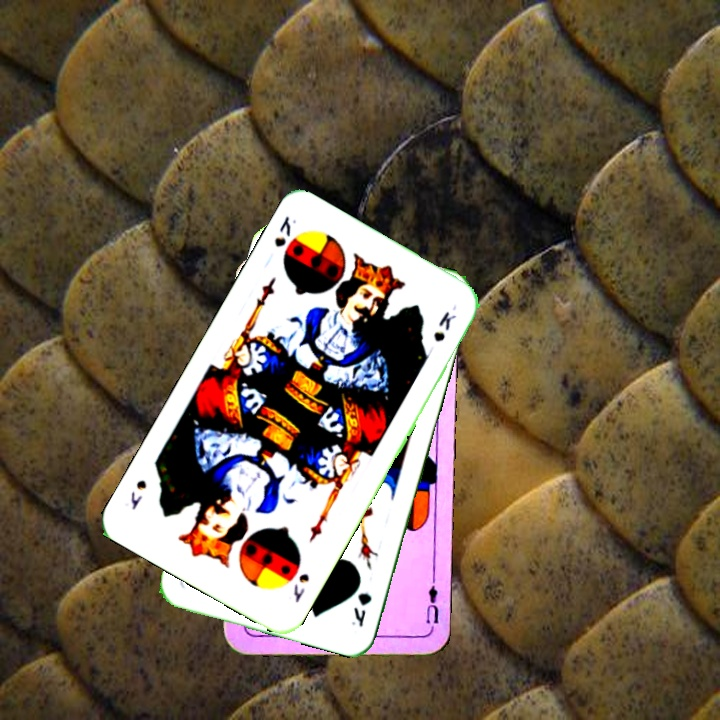EU: (422, 575, 441, 634)
GK: (347, 588, 375, 630)
SK: (270, 211, 299, 250), (289, 569, 312, 605)
